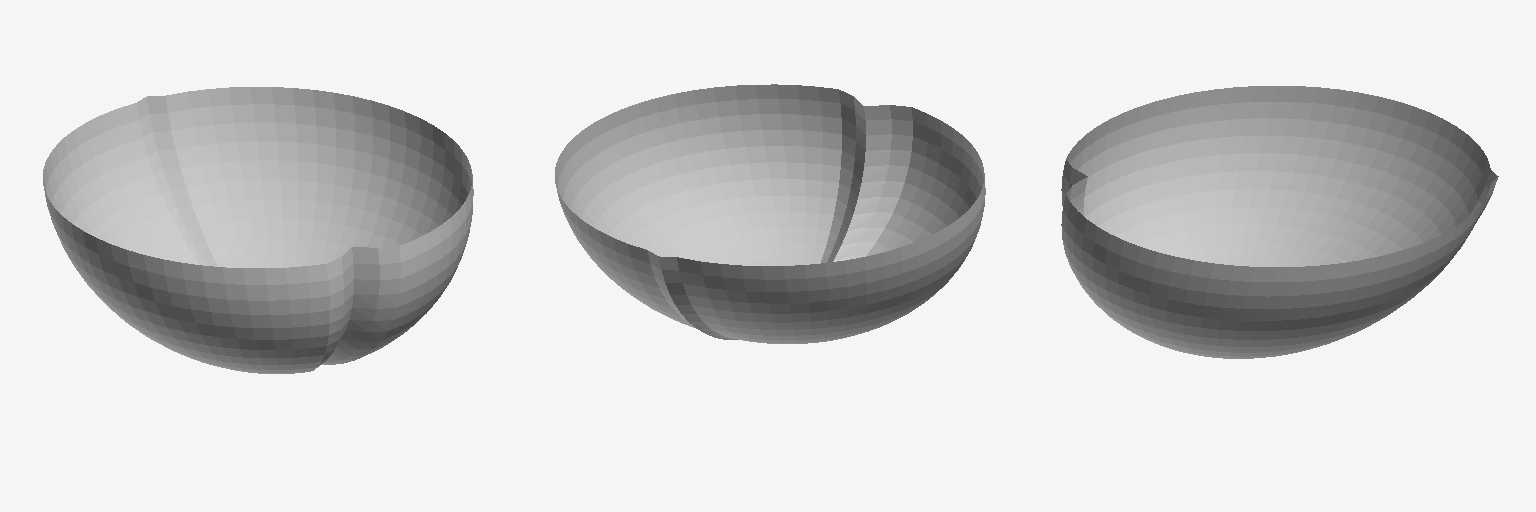
Rendered from culo.obj.
3 renders of one model, left to right at view 1: azimuth 30°, elevation 25°; view 2: azimuth 150°, elevation 25°; view 3: azimuth 270°, elevation 25°, orthographic.
Visible parts, largest first — view 1: Sphere; view 2: Sphere; view 3: Sphere.
Boxes of the visible parts, box(x1,y1,x2,y2) form: Sphere: box(43, 87, 473, 373); Sphere: box(555, 84, 985, 343); Sphere: box(1061, 86, 1498, 358).
Size of the model in its own units: 1.97 by 0.8054 by 2.01.